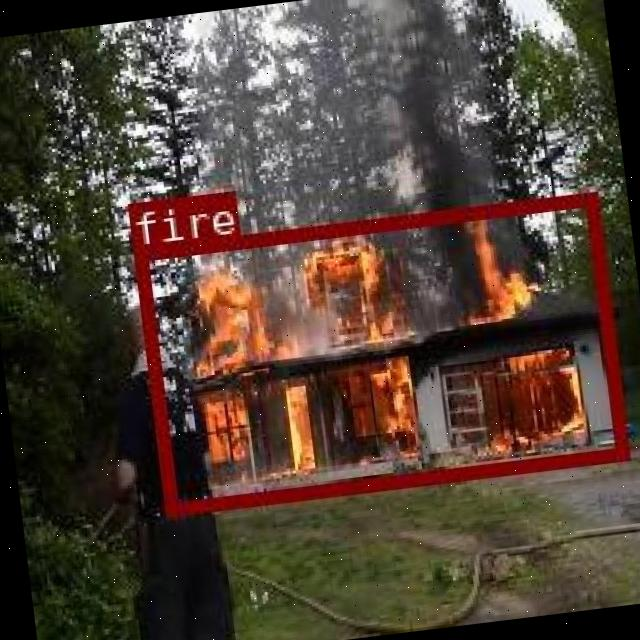fire: (130, 190, 626, 512)
